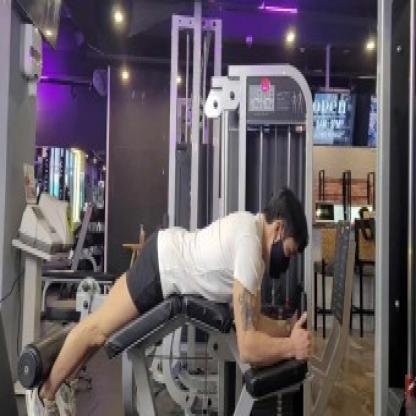reg curl machine: (15, 68, 323, 416)
